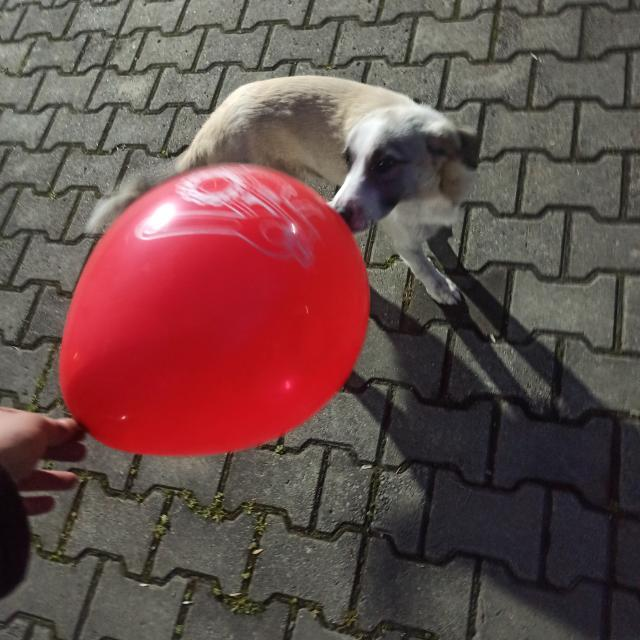red: (57, 160, 371, 457)
